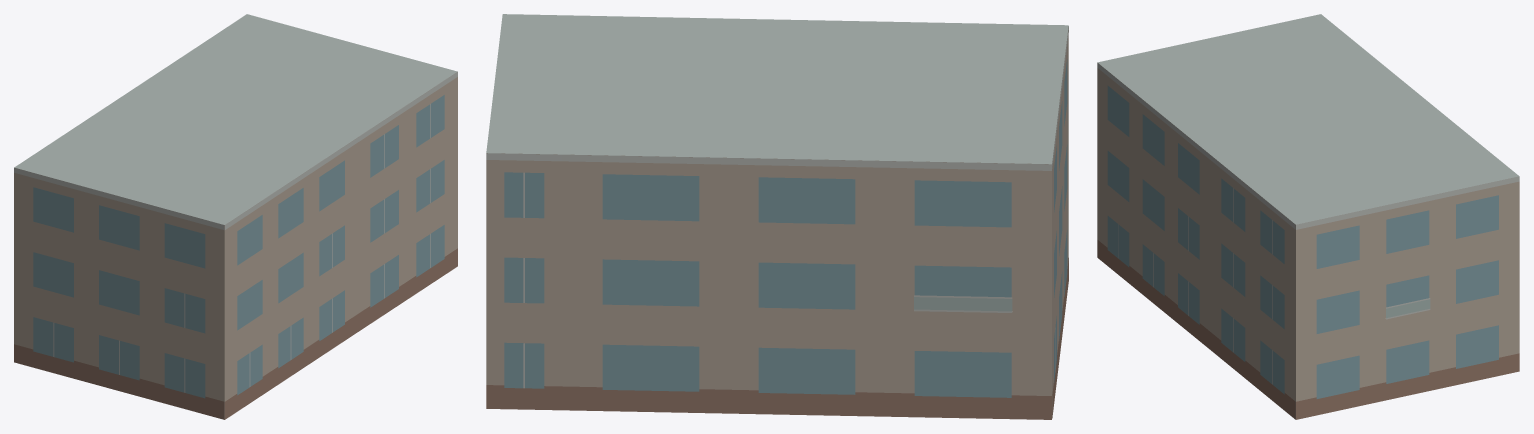
The model's file is survey-upis-32841255.glb.
3 renders of one model, left to right at view 1: azimuth 30°, elevation 25°; view 2: azimuth 150°, elevation 25°; view 3: azimuth 270°, elevation 25°, orthographic. The views are drawn at different scales.
Parts seen in each view (by area): view 1: survey-upis-32841255.tmp; view 2: survey-upis-32841255.tmp; view 3: survey-upis-32841255.tmp.
Boxes of the visible parts, left/top/right/bottom form: survey-upis-32841255.tmp: left=14, top=14, right=457, bottom=419; survey-upis-32841255.tmp: left=486, top=14, right=1068, bottom=419; survey-upis-32841255.tmp: left=1097, top=14, right=1519, bottom=419.
Size of the model in its own units: 21.2 by 9.15 by 17.96.
